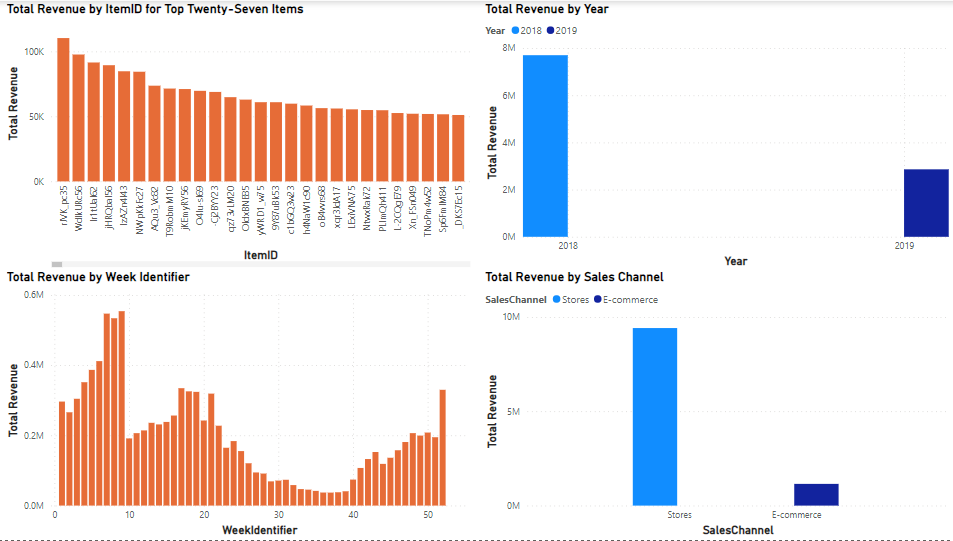

The dashboard page shown, as its layout file describes it:
{"tool":"powerbi","page":{"name":"Page 2","canvas":[1280,720],"ordinal":1},"visuals":[{"type":"clusteredColumnChart","title":"Total Revenue by ItemID for Top Twenty-Seven Items","fields":{"Y":["factSales.Total Revenue"],"Category":["factSales.ItemID"]},"box":[10.3,0,629.6,360.5],"z":0},{"type":"clusteredColumnChart","title":"Total Revenue by Sales Channel","fields":{"Y":["factSales.Total Revenue"],"Category":["dimChannels.SalesChannel"],"Series":["dimChannels.SalesChannel"]},"box":[650.3,358.8,629.6,360.5],"z":1000},{"type":"clusteredColumnChart","title":"Total Revenue by Week Identifier","fields":{"Y":["factSales.Total Revenue"],"Category":["dimDates.WeekIdentifier"]},"box":[10.3,358.8,629.6,360.5],"z":2000},{"type":"clusteredColumnChart","title":"Total Revenue by Year","fields":{"Category":["dimDates.Year"],"Y":["factSales.Total Revenue"],"Series":["dimDates.Year"]},"box":[650.3,0,629.6,360.5],"z":3000}]}

Visuals, with their boxes in screenshot pixels (x1, y1, x2, y2), scaled from the page's 1280x720 canvas onto the 953x541 screenshot:
"Total Revenue by ItemID for Top Twenty-Seven Items" clusteredColumnChart: 8:0:476:271
"Total Revenue by Sales Channel" clusteredColumnChart: 484:270:952:540
"Total Revenue by Week Identifier" clusteredColumnChart: 8:270:476:540
"Total Revenue by Year" clusteredColumnChart: 484:0:952:271
